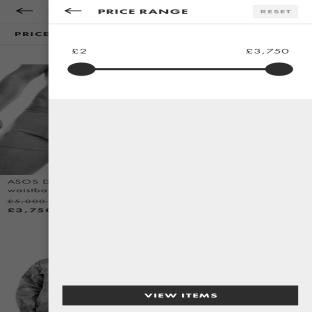Slider: (64, 60, 296, 79)
button: (63, 284, 302, 308)
